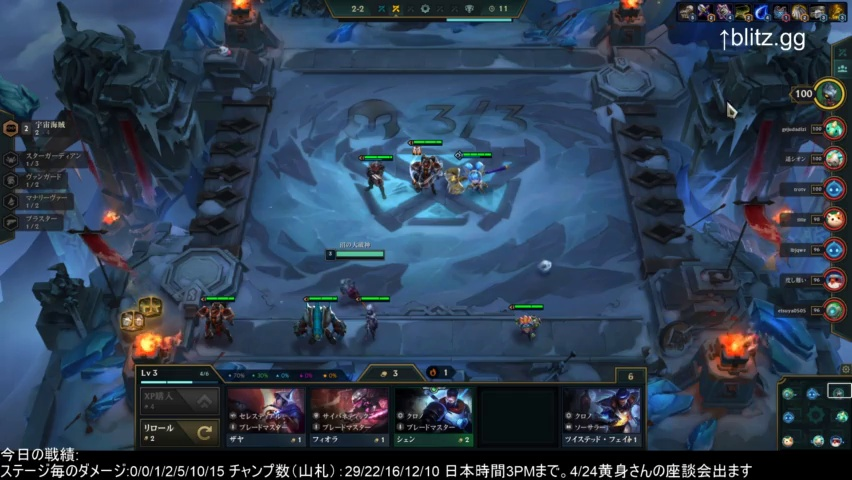:bow, belt: (118, 286, 169, 341)
malphite: (299, 294, 343, 354)
